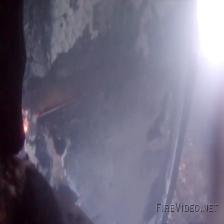fire_l: (22, 119, 28, 134)
